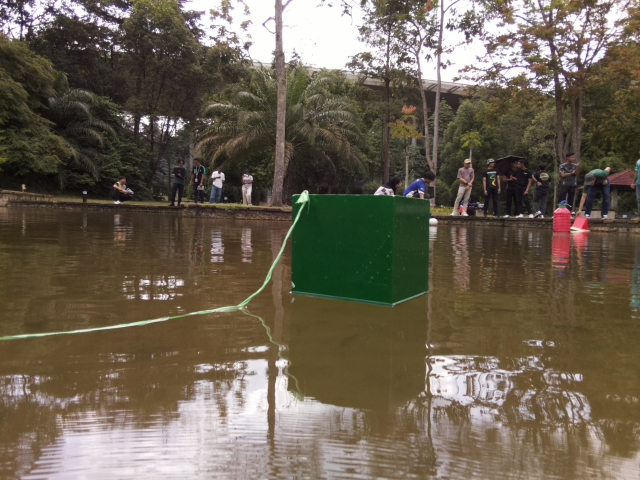obstacle: (290, 192, 431, 310)
